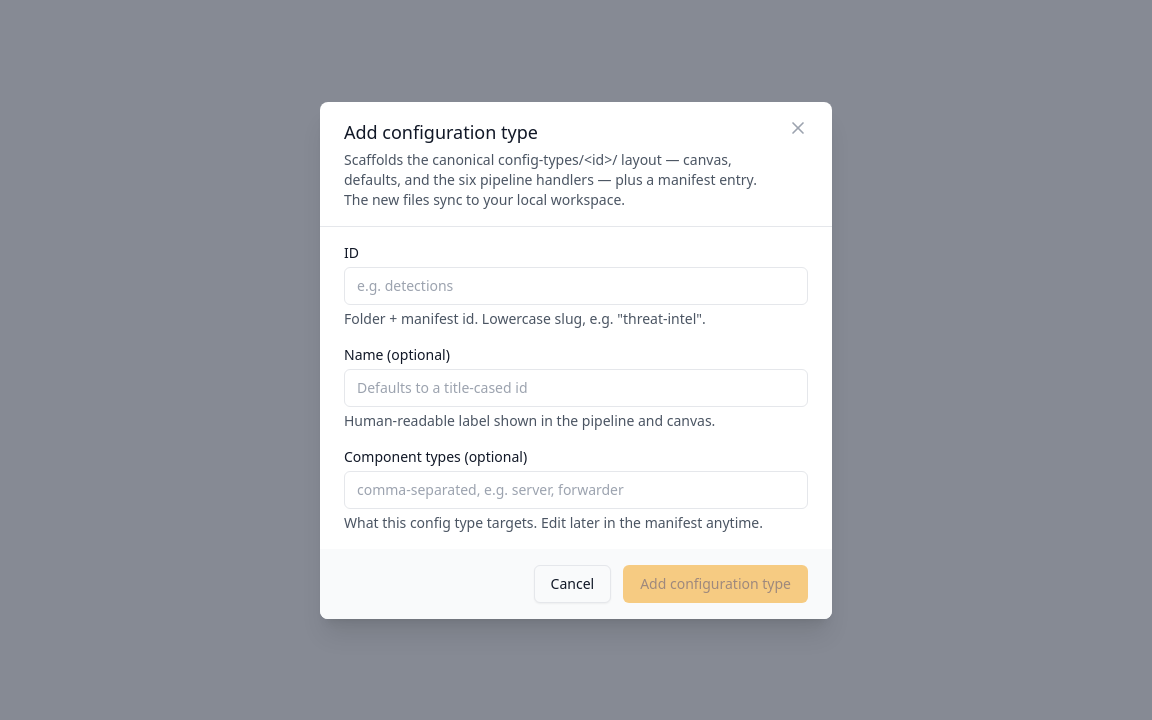
Test: AddConfigTypeDialog › submits a valid config type and reports success
Type "detections" into the field labelled "ID" at (576, 286), box [344, 266, 808, 304]
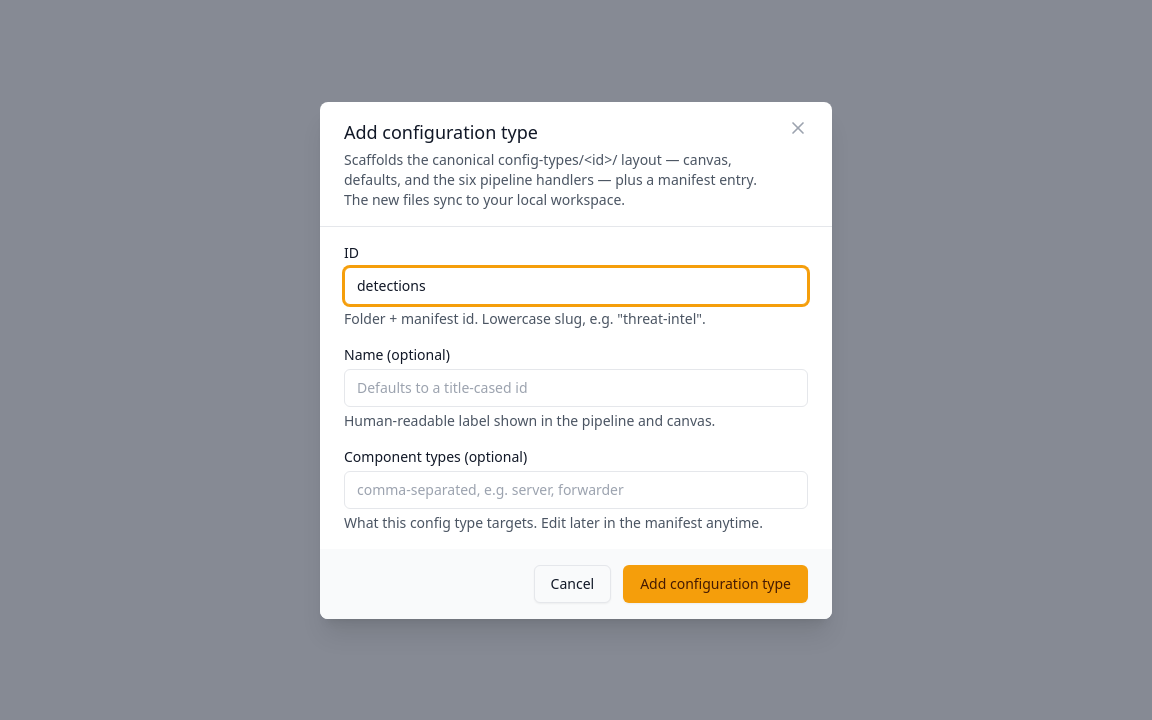
Type "Detections" into the field labelled "Name (optional)" at (576, 388), box [344, 368, 808, 406]
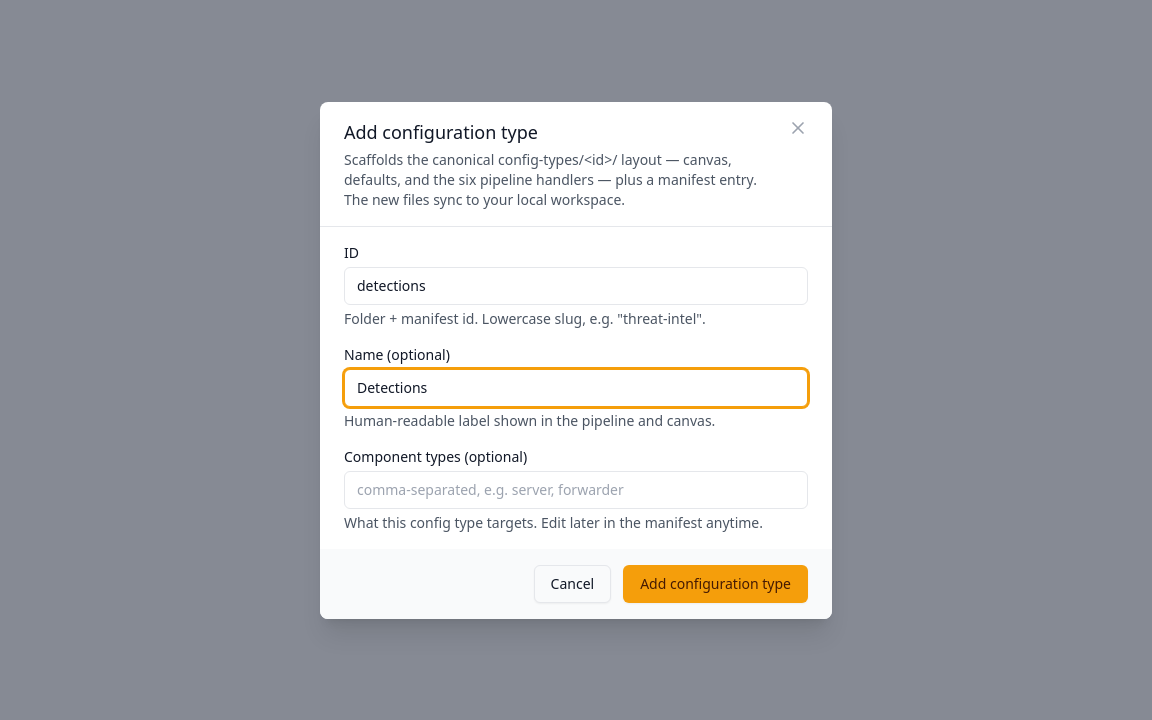
Type "server, forwarder" into the field labelled "Component types (optional)" at (576, 490), box [344, 470, 808, 508]
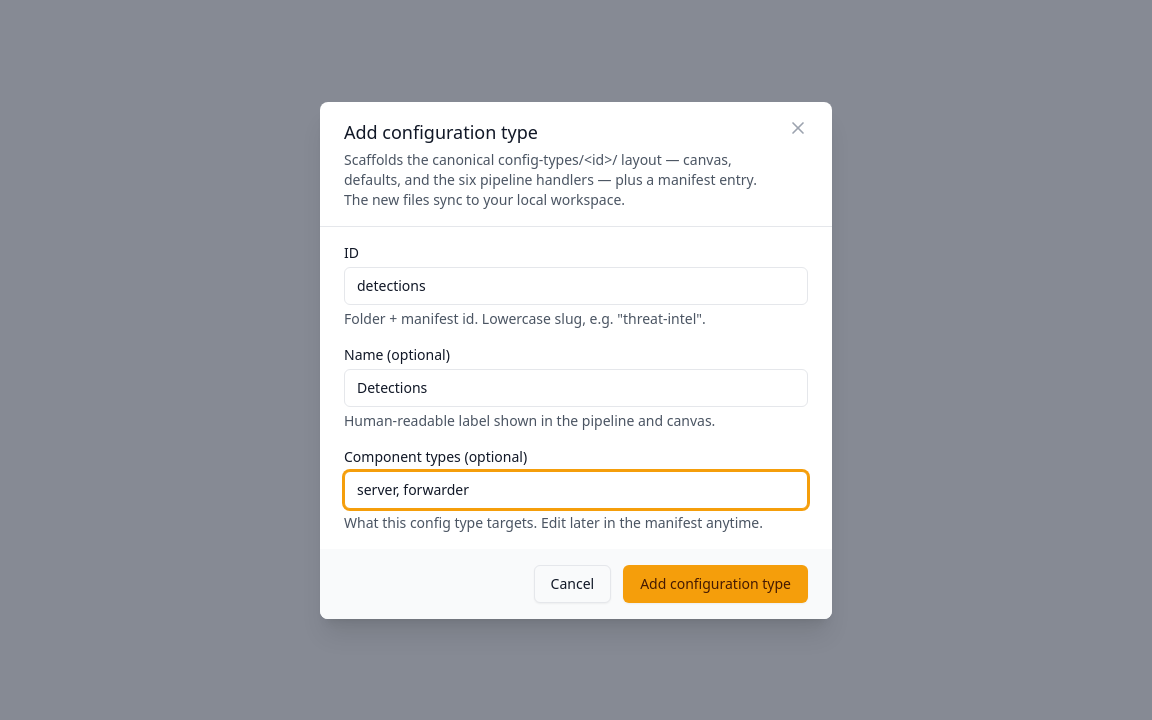
Result: the button "Add configuration type" is enabled
Click the button "Add configuration type" at (716, 584), box [623, 564, 808, 602]
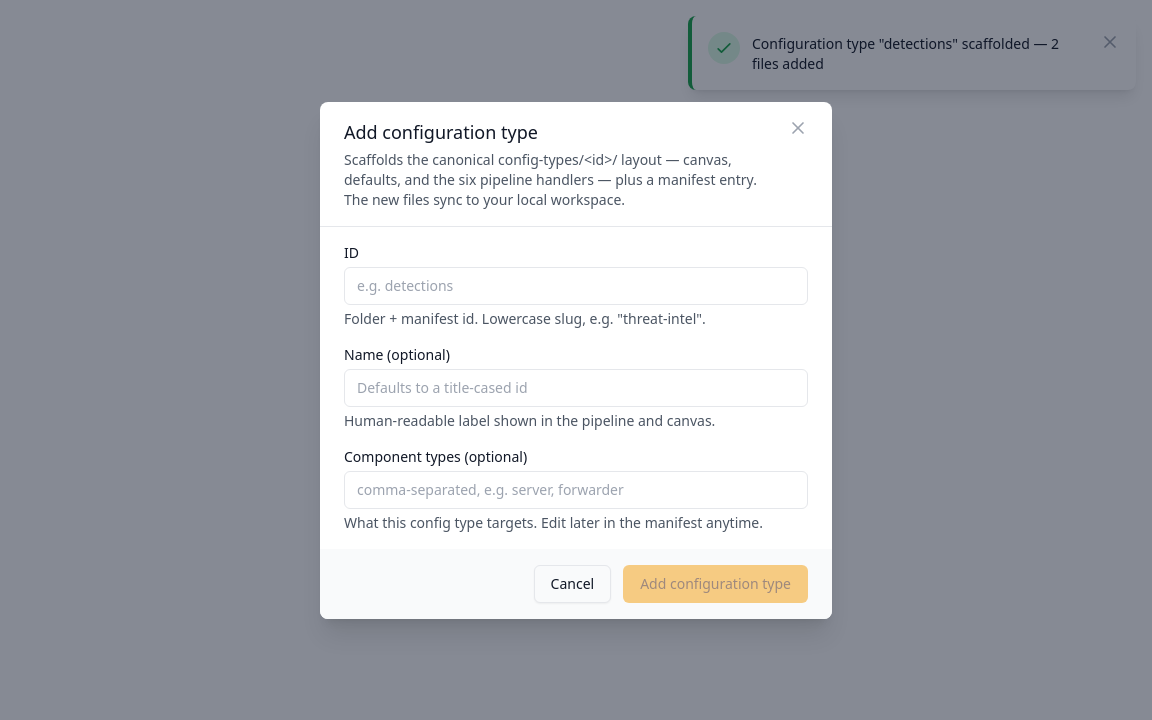
Result: the text "Configuration type \"detections\" scaffolded — 2 files added" is shown at [752, 34, 1088, 74]
